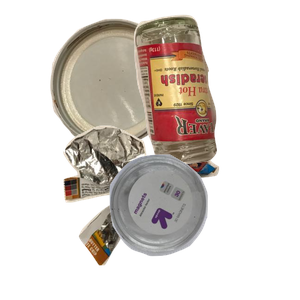glass: (131, 12, 300, 170)
metal: (47, 16, 214, 157)
plastic: (107, 152, 300, 300)
trash: (61, 123, 273, 300)
